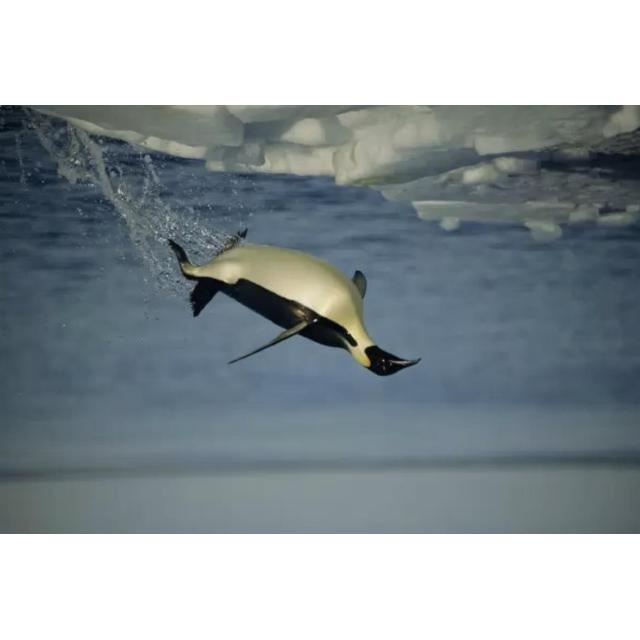penguin: (167, 225, 423, 379)
